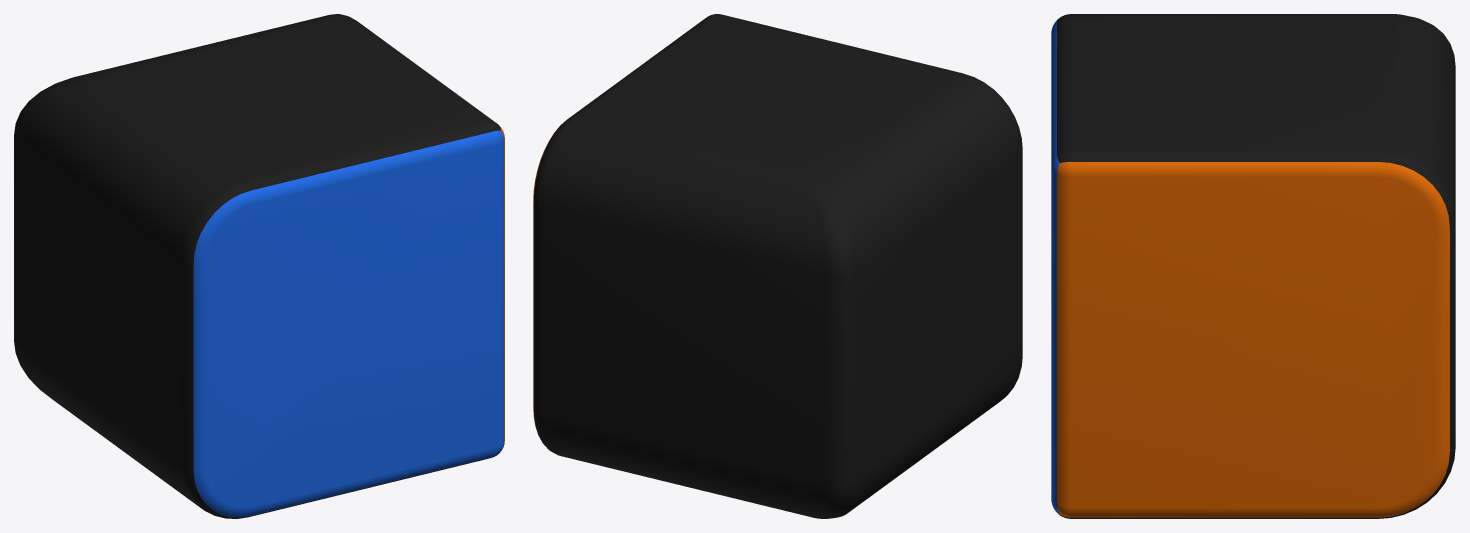
Rendered from ob_edge.glb.
3 views of the same model, side by side, from view 1: azimuth 30°, elevation 25°; view 2: azimuth 150°, elevation 25°; view 3: azimuth 270°, elevation 25° (orthographic). The views are drawn at different scales.
Parts seen in each view (by area): view 1: Cube.011; view 2: Cube.011; view 3: Cube.011.
Boxes of the visible parts, x1=… form: Cube.011: x1=14, y1=14, x2=504, y2=518; Cube.011: x1=533, y1=14, x2=1022, y2=518; Cube.011: x1=1051, y1=14, x2=1455, y2=518.
Size of the model in its own units: 2 by 2 by 2.
